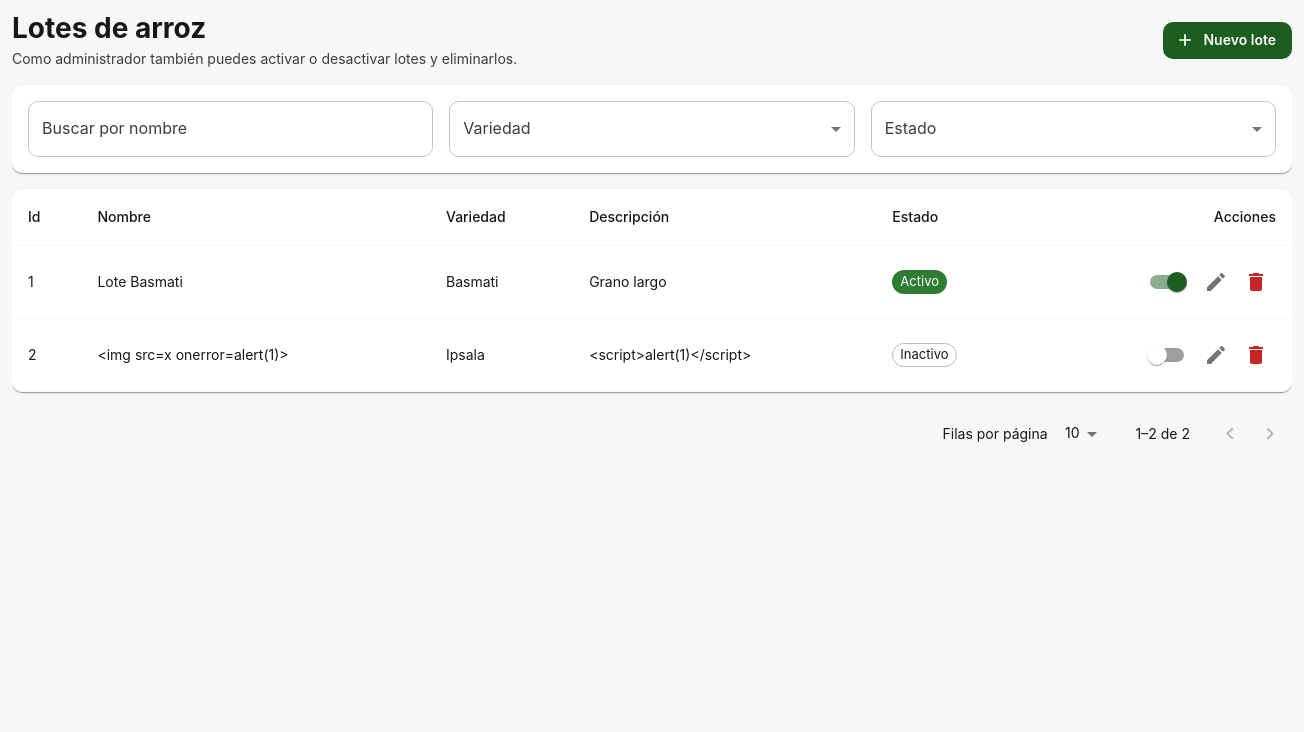
Test: PaginaProductos › CA-10.2 si la API rechaza el cambio de estado se muestra el error y la fila no cambia
The image size is (1304, 732).
Click the checkbox with test id "estado-1".
click(1177, 282)  # box [1167,272,1187,292]
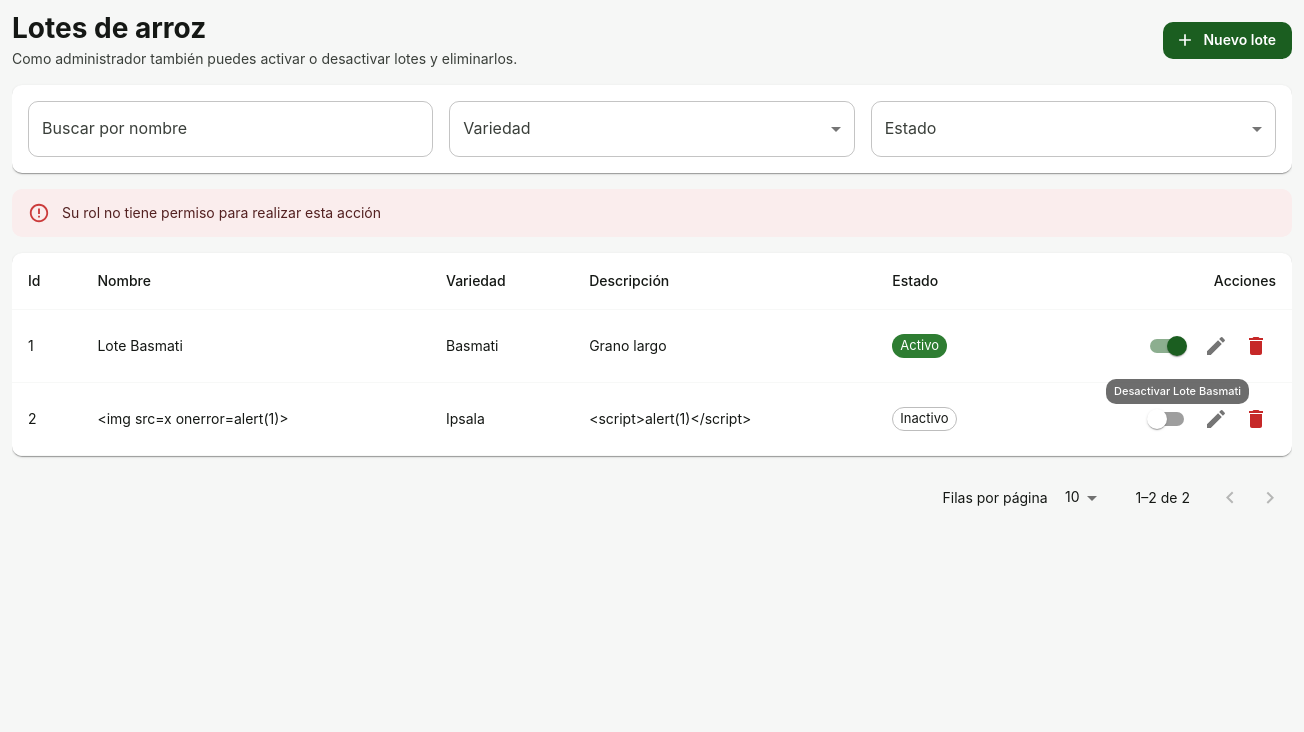
Expected: the checkbox with test id "estado-1" is checked, [1167,336,1187,356]
Result: the message shows "Su rol no tiene permiso" at [62,204,381,221]
